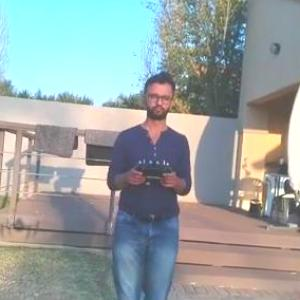follow: (96, 65, 192, 299)
